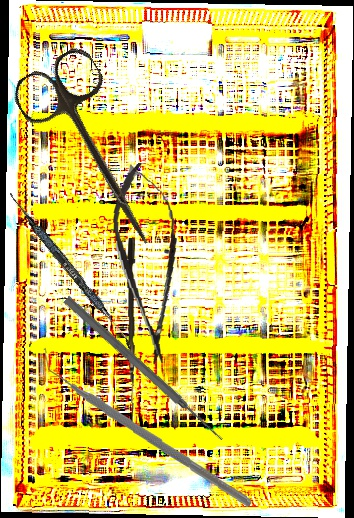Chopper: (37, 346, 258, 507)
Hook Surgical: (124, 237, 142, 425)
Iris Scissors: (6, 42, 189, 264)
Micro Scissor: (106, 160, 191, 367)
Pusher: (61, 294, 227, 445)
Spatula Surgical: (3, 191, 139, 350)
